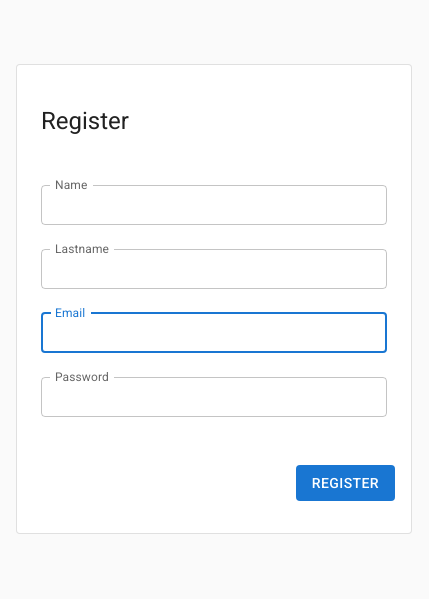
Test: RegisterForm › should display validation errors for empty fields when the submit button is clicked
Click the submit button at (346, 484), box [296,465,395,502]
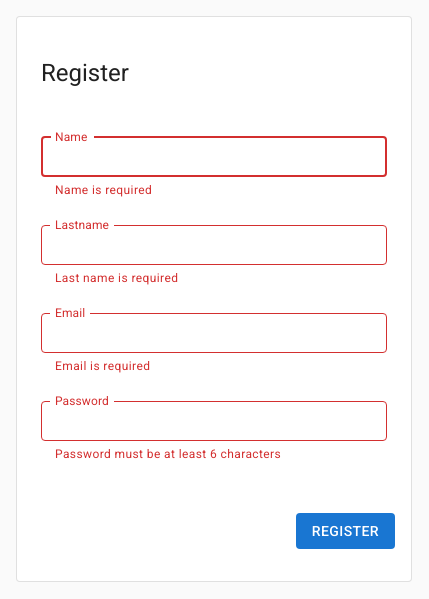
Check: the text "Name is required" is shown, box [55,183,152,197]
Check: the text "Last name is required" is shown, box [55,271,178,285]
Check: the text "Email is required" is shown, box [55,359,150,373]
